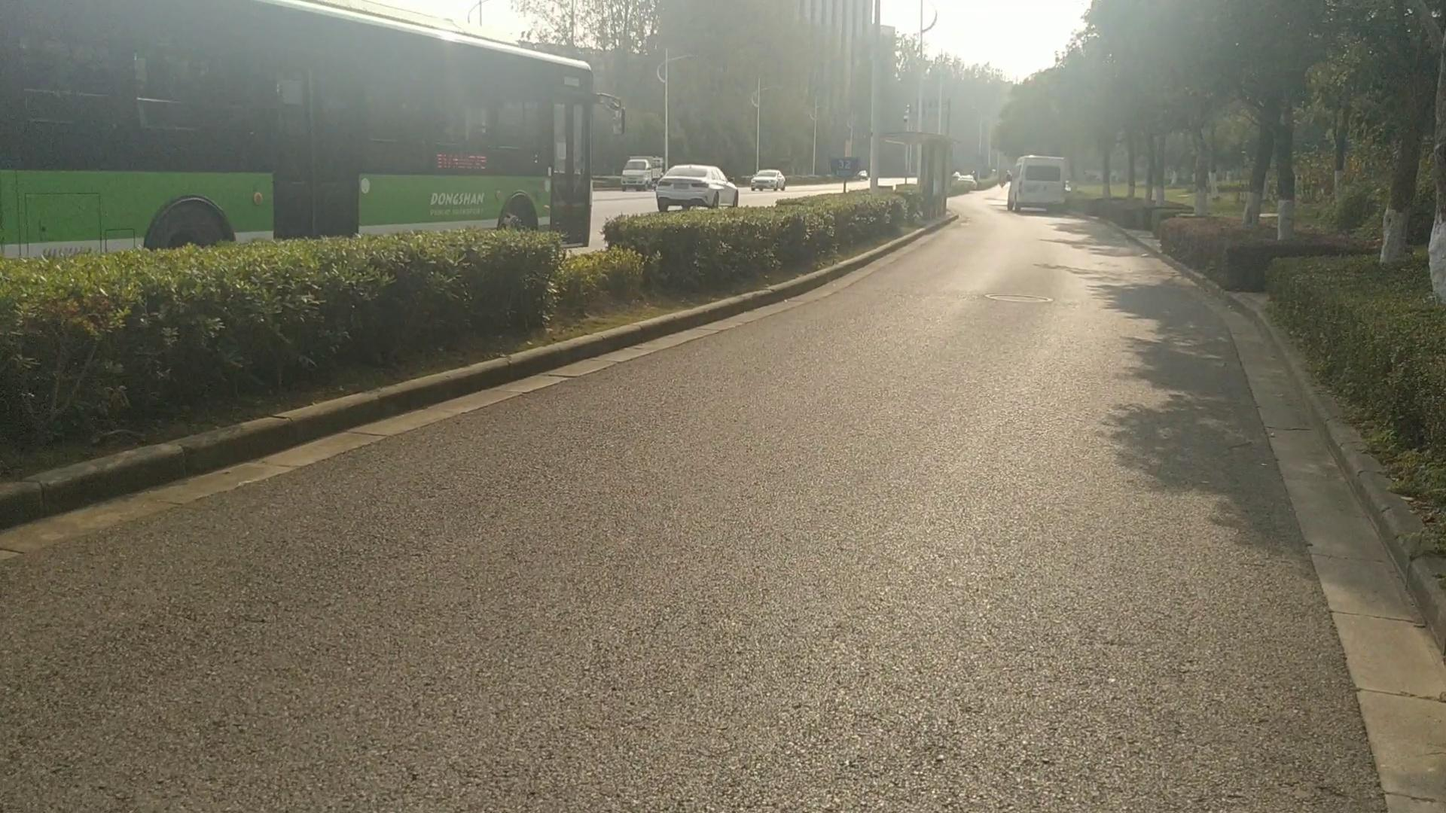car: (653, 164, 740, 212), (1005, 154, 1069, 214), (621, 155, 664, 190), (751, 168, 786, 193), (830, 157, 865, 177), (950, 171, 975, 187)
